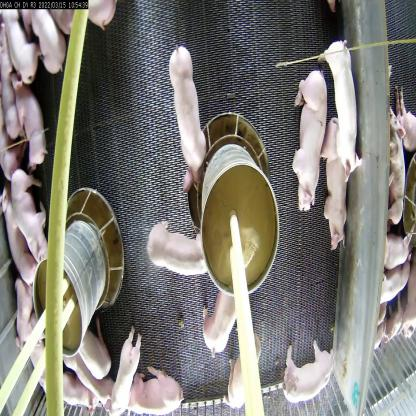Pig: (162, 47, 212, 188), (8, 167, 56, 302), (324, 32, 364, 190), (150, 213, 211, 299), (71, 317, 116, 415), (320, 106, 352, 242), (292, 70, 323, 210), (281, 340, 333, 407), (130, 363, 186, 415), (8, 10, 38, 99), (110, 325, 139, 413), (198, 284, 234, 350), (224, 368, 250, 414)
